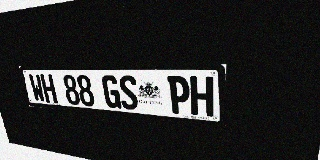8: (76, 75, 95, 107), (62, 75, 81, 105)
G: (101, 75, 122, 109)
H: (190, 76, 214, 117), (40, 74, 58, 103)
P: (167, 76, 190, 115)
S: (118, 75, 139, 110)
W: (28, 74, 46, 102)
